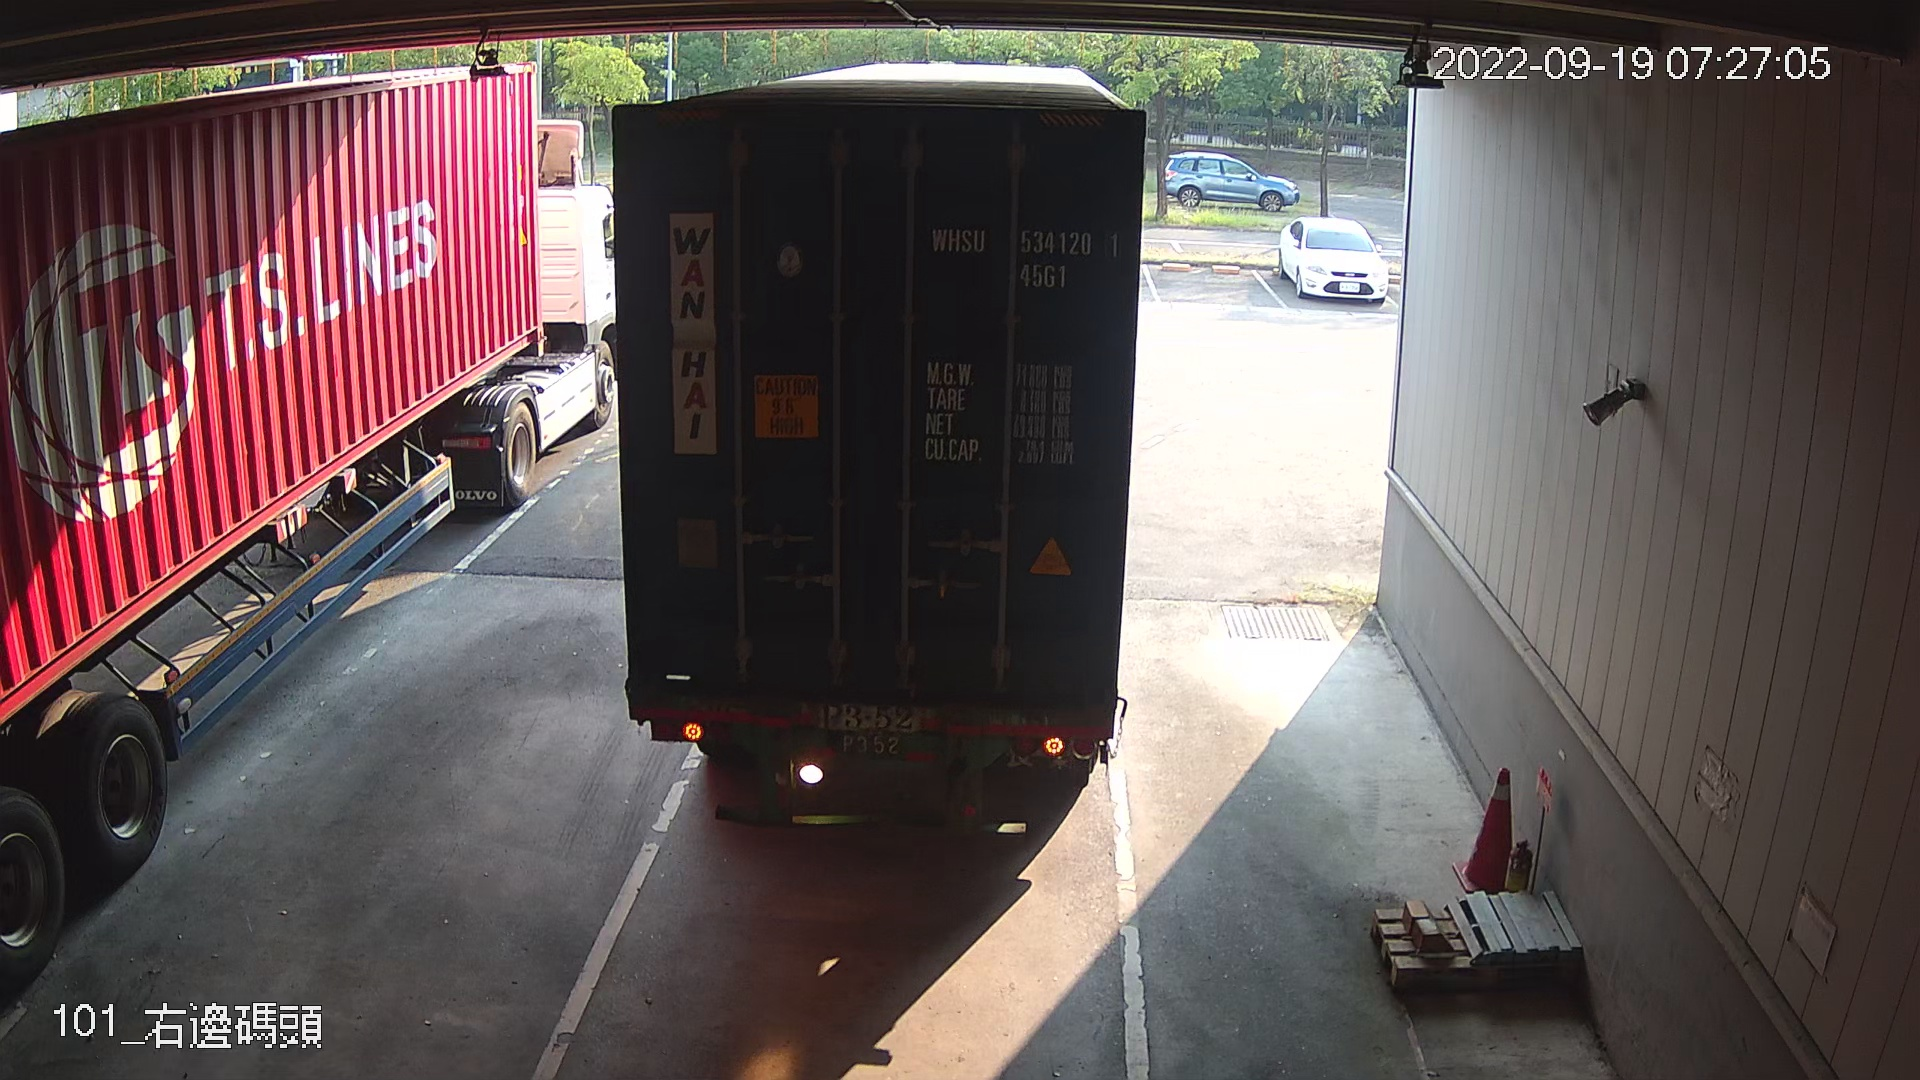container: (928, 212, 1129, 299)
